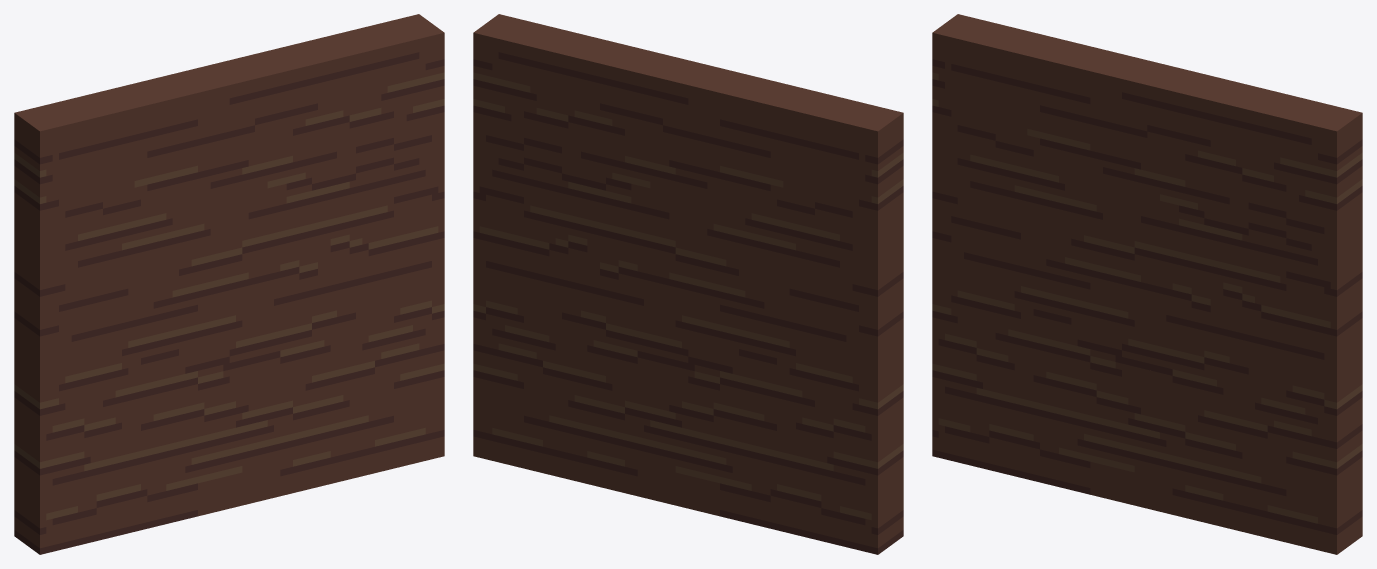
File: masa_ust_texture.fbx
3 views of the same model, side by side, from view 1: azimuth 30°, elevation 25°; view 2: azimuth 150°, elevation 25°; view 3: azimuth 330°, elevation 25° (orthographic).
Visible parts, largest first — view 1: generated; view 2: generated; view 3: generated.
Part boxes in pixels (left/top/right/bottom): generated: left=14, top=14, right=444, bottom=554; generated: left=473, top=14, right=903, bottom=554; generated: left=932, top=14, right=1362, bottom=554.
Bounding box in the file's own units: 640 × 640 × 70.
